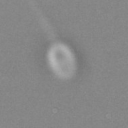normal: (30, 1, 60, 40)
